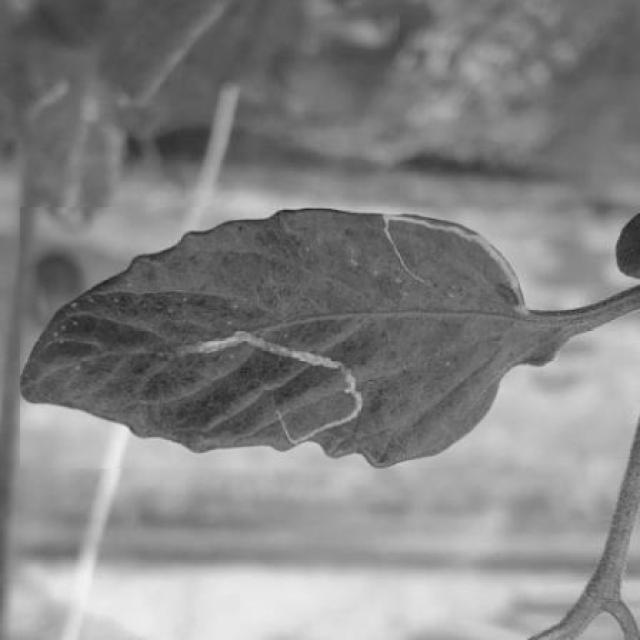Leaf Miner: (21, 207, 526, 469)
